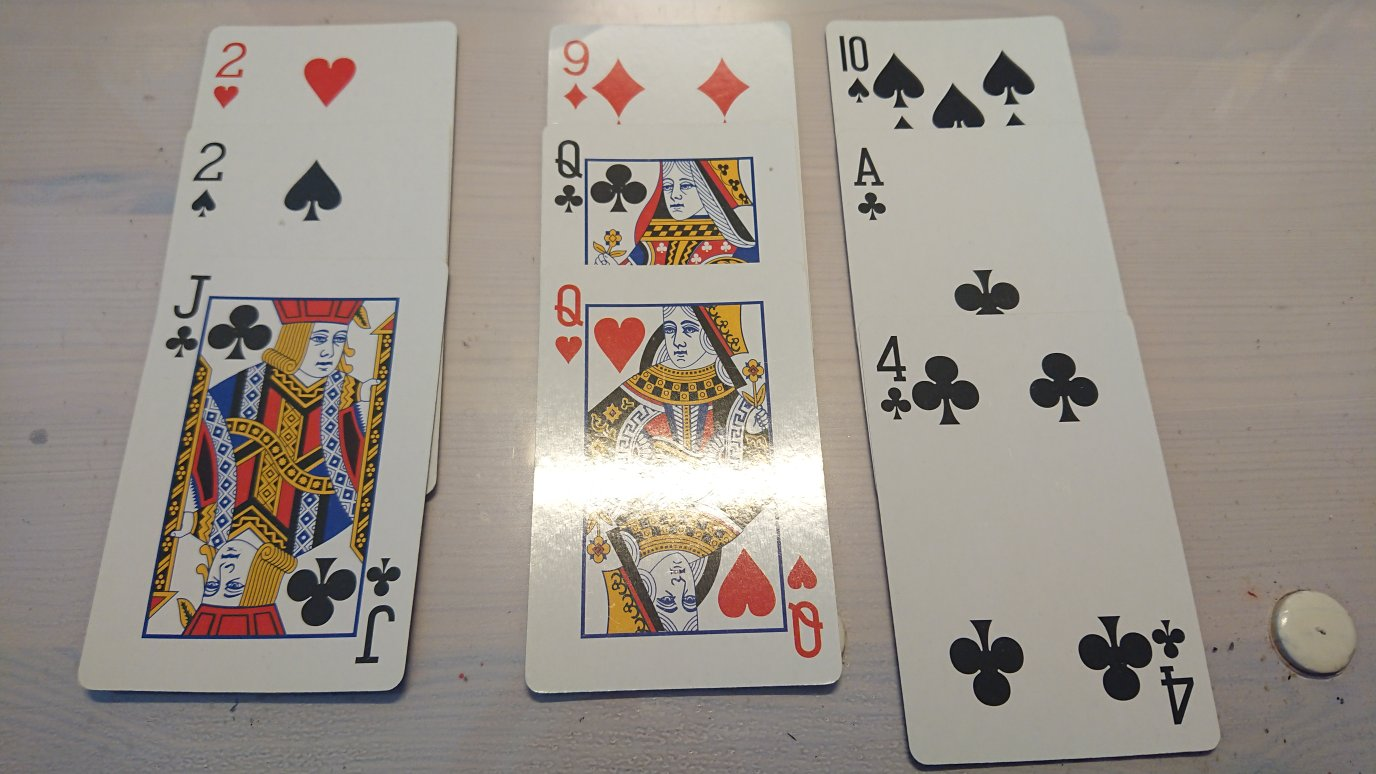10S: (834, 30, 872, 108)
2H: (210, 39, 250, 113)
2S: (189, 139, 229, 221)
4C: (872, 329, 911, 423)
9D: (561, 36, 591, 112)
AC: (848, 142, 892, 227)
JC: (163, 272, 214, 361)
QC: (550, 138, 589, 219)
QH: (550, 280, 589, 367)
